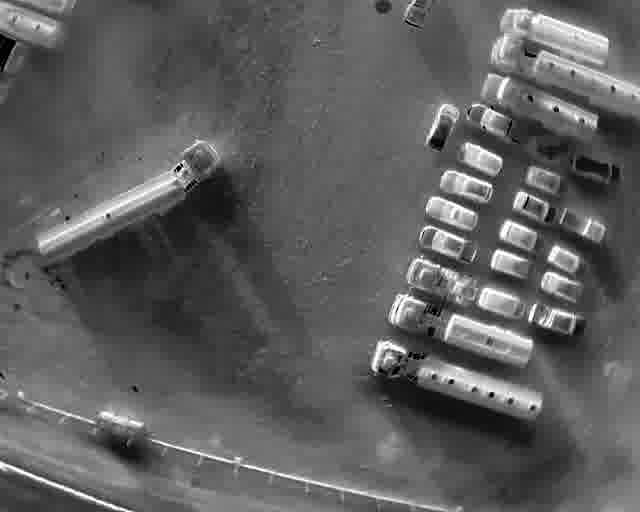car: (466, 101, 523, 146), (417, 226, 479, 263), (527, 303, 587, 338), (498, 218, 548, 258), (438, 170, 495, 205), (425, 197, 479, 232), (557, 209, 609, 243), (490, 249, 540, 284), (541, 272, 594, 305), (569, 154, 623, 186), (424, 102, 458, 152), (512, 189, 559, 225), (546, 244, 597, 277), (457, 142, 503, 177), (524, 165, 570, 198), (479, 287, 527, 317), (401, 0, 435, 32)
truck: (32, 139, 221, 269), (369, 339, 543, 423), (488, 33, 640, 119), (385, 292, 536, 369), (480, 70, 599, 145), (498, 4, 611, 67), (405, 257, 479, 308)
